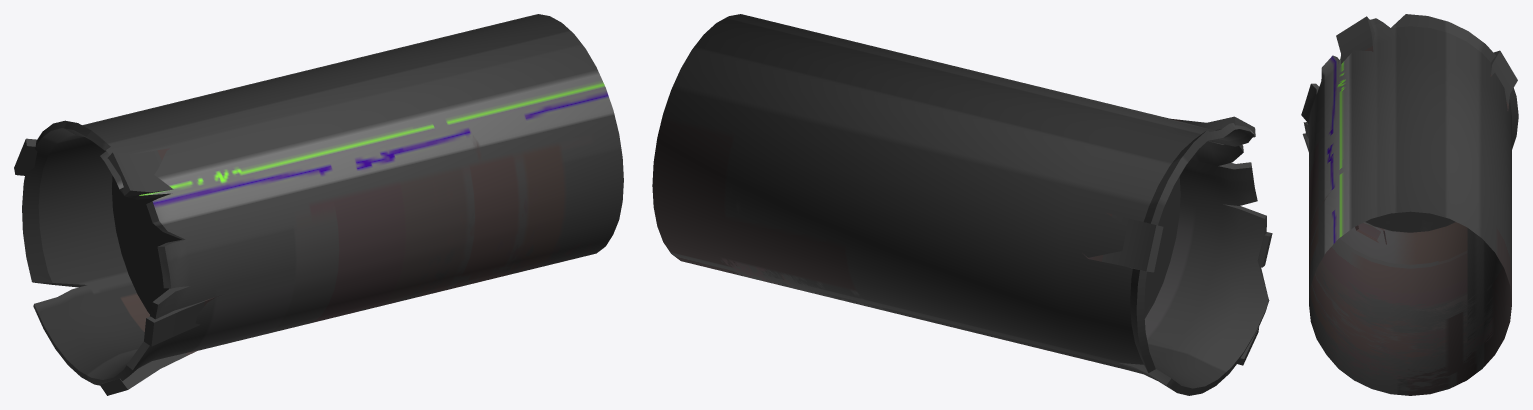
The model's file is SM_Pipe_Broken_Small.fbx.
The picture shows the model from 3 angles, left to right: view 1: azimuth 30°, elevation 25°; view 2: azimuth 150°, elevation 25°; view 3: azimuth 270°, elevation 25°; orthographic projection. The views are drawn at different scales.
Visible parts, largest first — view 1: SM_Pipe_Broken_Small; view 2: SM_Pipe_Broken_Small; view 3: SM_Pipe_Broken_Small.
Part boxes in pixels (bbox=[...]): SM_Pipe_Broken_Small: bbox=[14, 14, 623, 395]; SM_Pipe_Broken_Small: bbox=[652, 14, 1272, 395]; SM_Pipe_Broken_Small: bbox=[1301, 14, 1518, 395].
Size of the model in its own units: 6.88 by 3.31 by 3.24.
